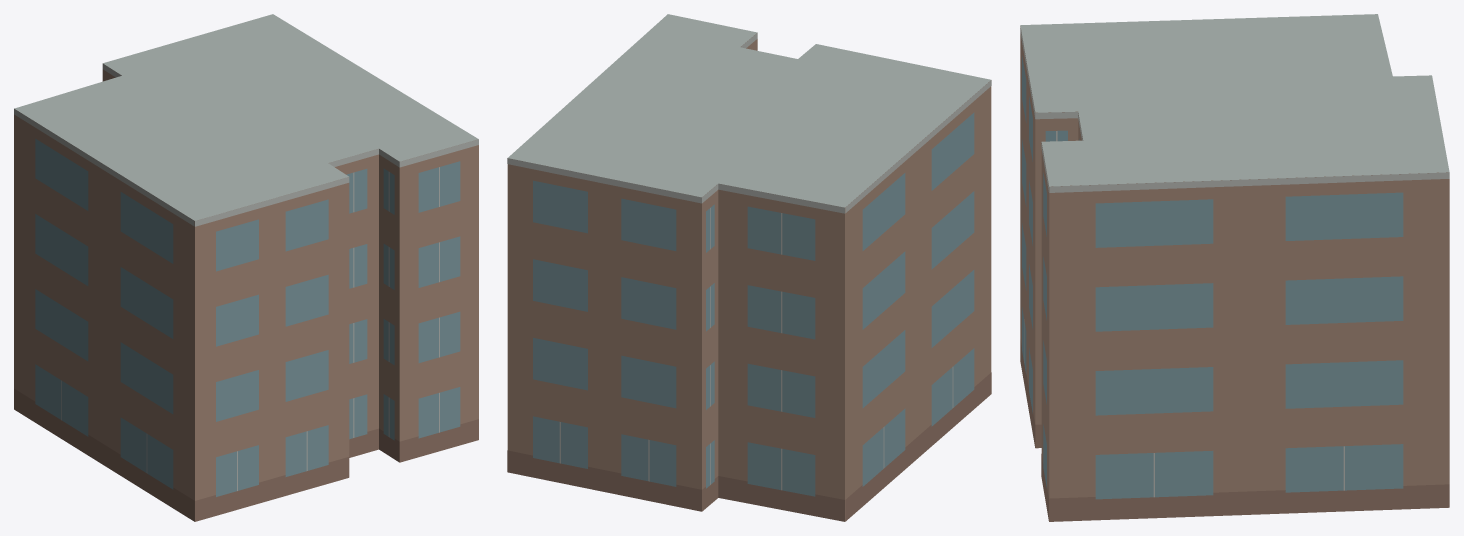
The model's file is survey-upis-32742151.glb.
3 views of the same model, side by side, from view 1: azimuth 30°, elevation 25°; view 2: azimuth 150°, elevation 25°; view 3: azimuth 270°, elevation 25° (orthographic). The views are drawn at different scales.
Visible parts, largest first — view 1: survey-upis-32742151.tmp; view 2: survey-upis-32742151.tmp; view 3: survey-upis-32742151.tmp.
Part boxes in pixels (x1,y1,x2,y2): survey-upis-32742151.tmp: (14,14,478,521); survey-upis-32742151.tmp: (507,14,991,521); survey-upis-32742151.tmp: (1020,14,1449,521).
Bounding box in the file's own units: 13.91 × 12.6 × 14.63.
